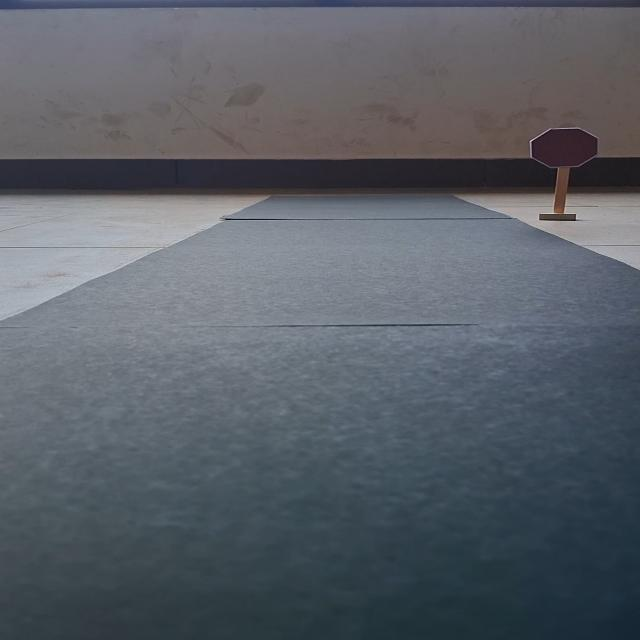Stop: (528, 127, 600, 168)
